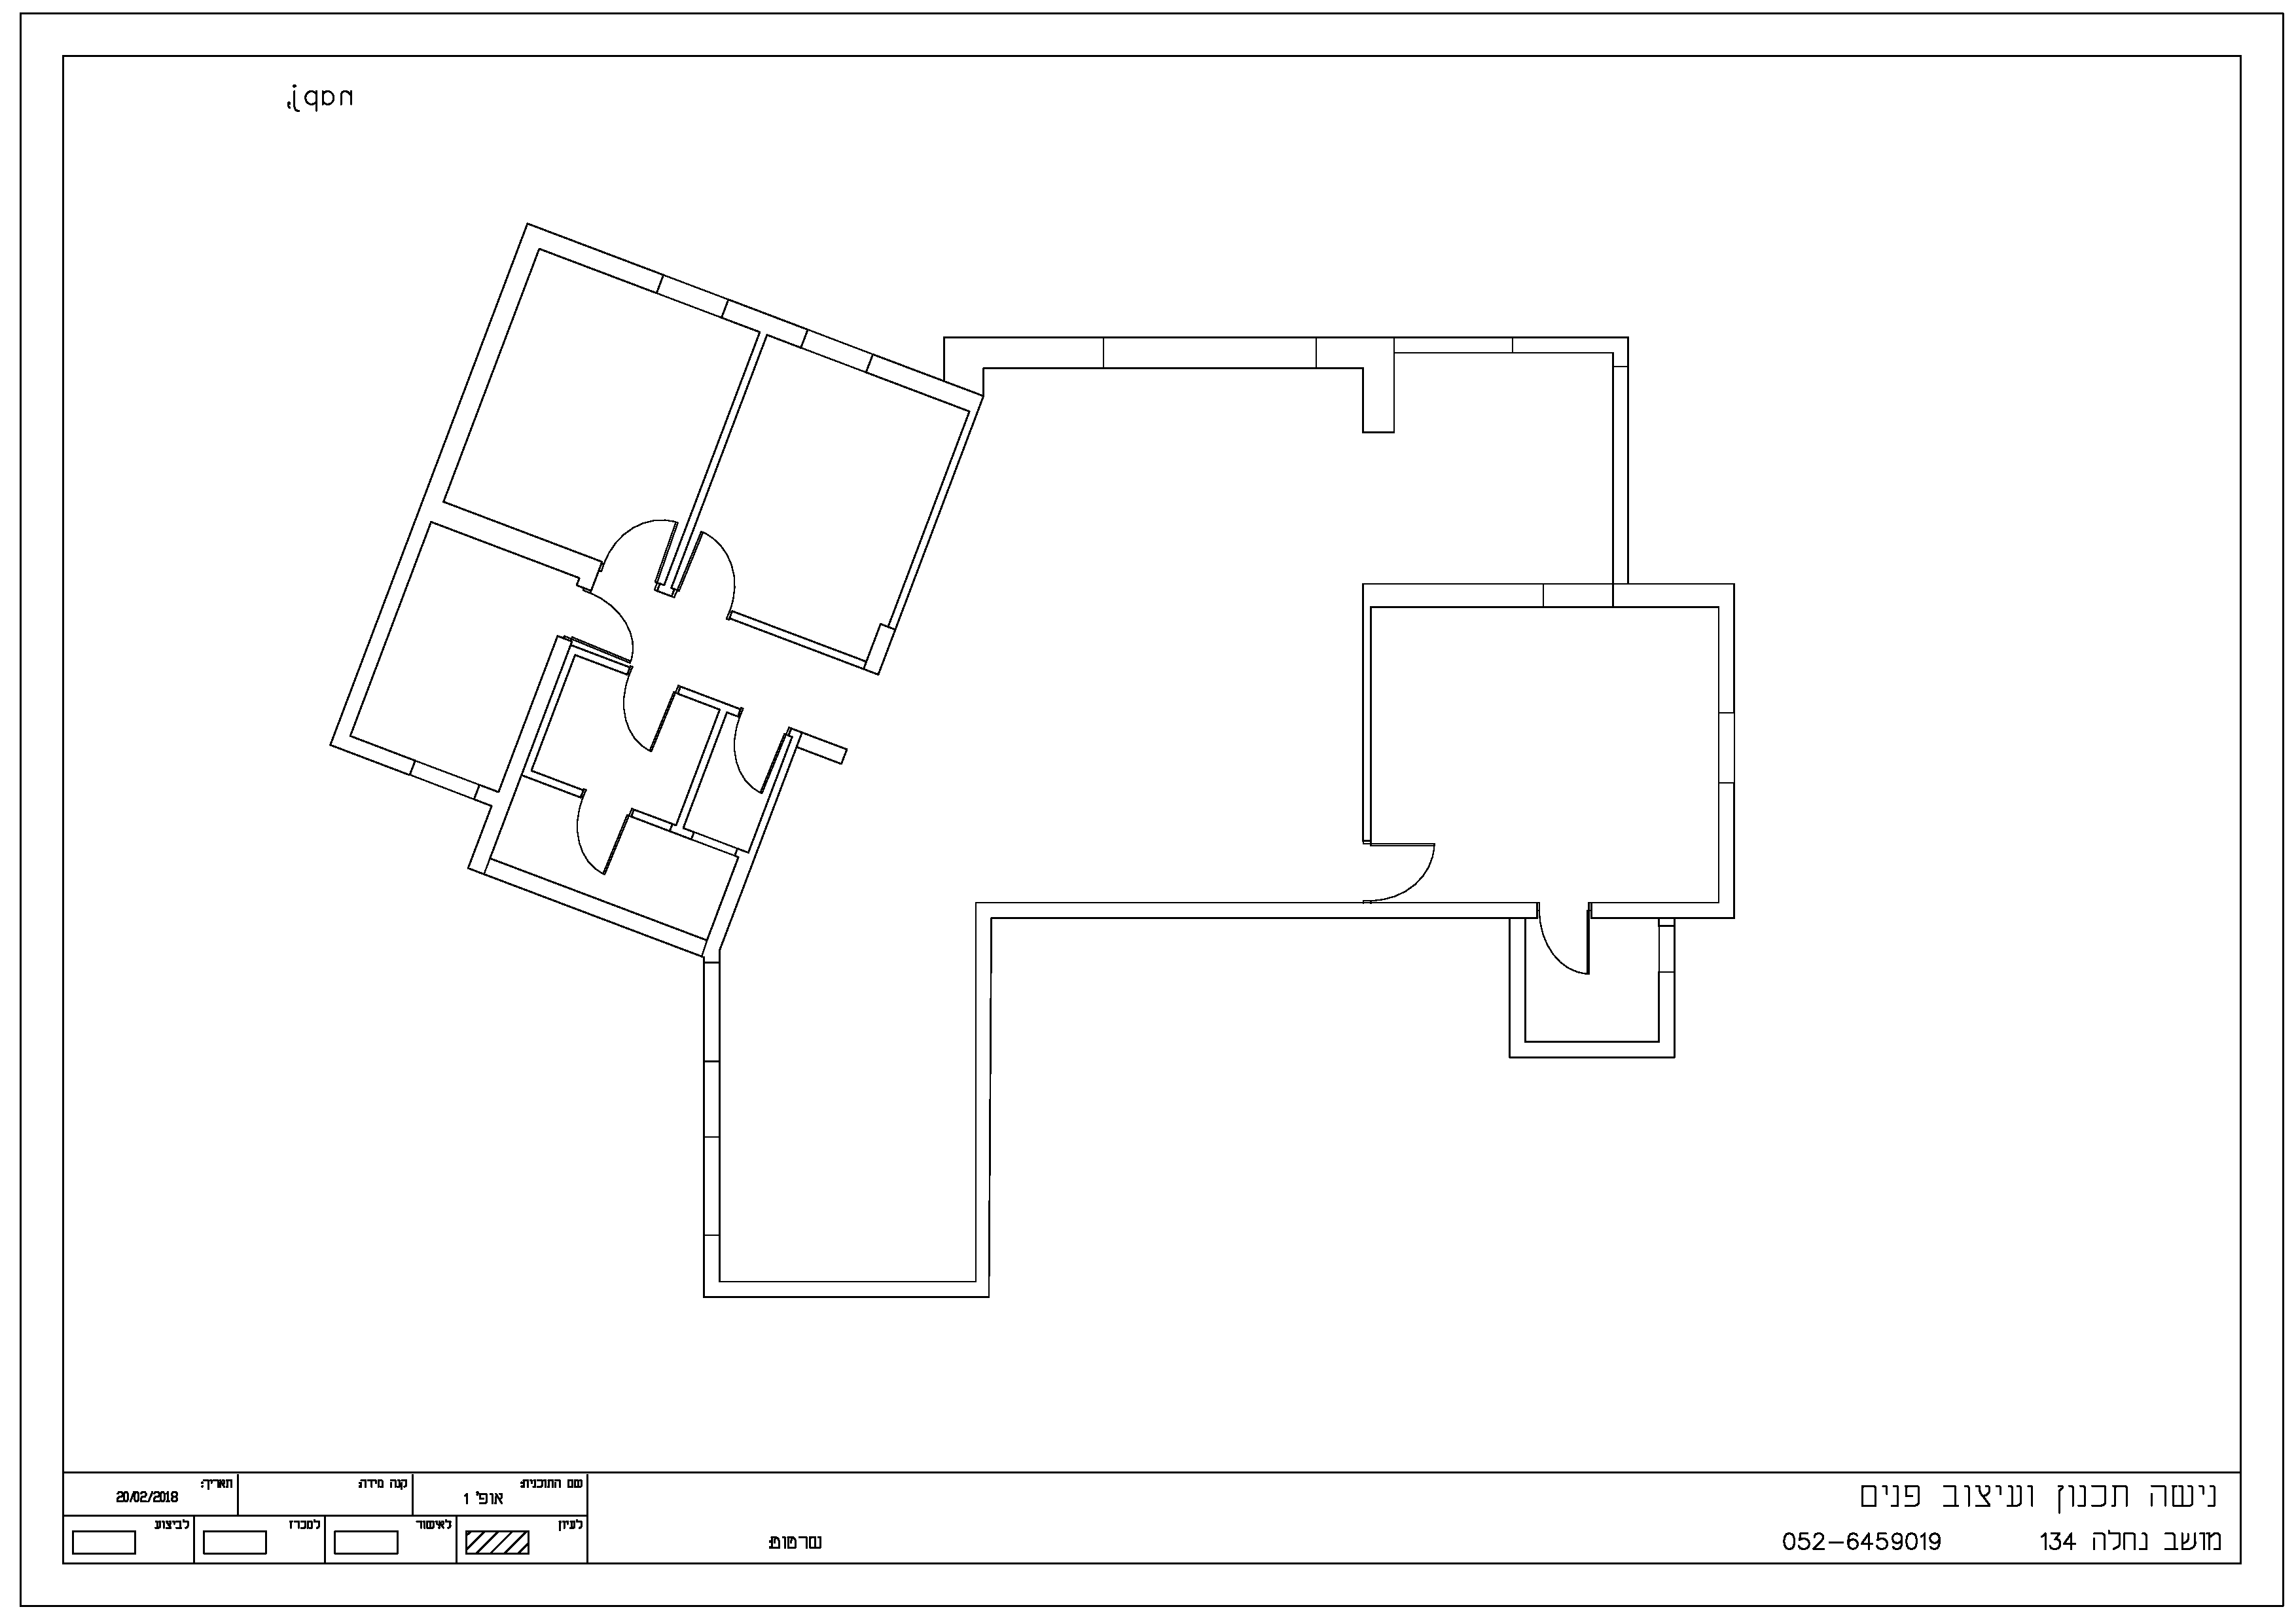door: (566, 808, 627, 882), (720, 717, 782, 791), (1379, 831, 1440, 905), (1534, 923, 1595, 997), (690, 531, 752, 603), (606, 677, 668, 749)
wall: (1316, 334, 1405, 439), (704, 1280, 978, 1297), (703, 965, 717, 1274), (977, 900, 987, 1299)
